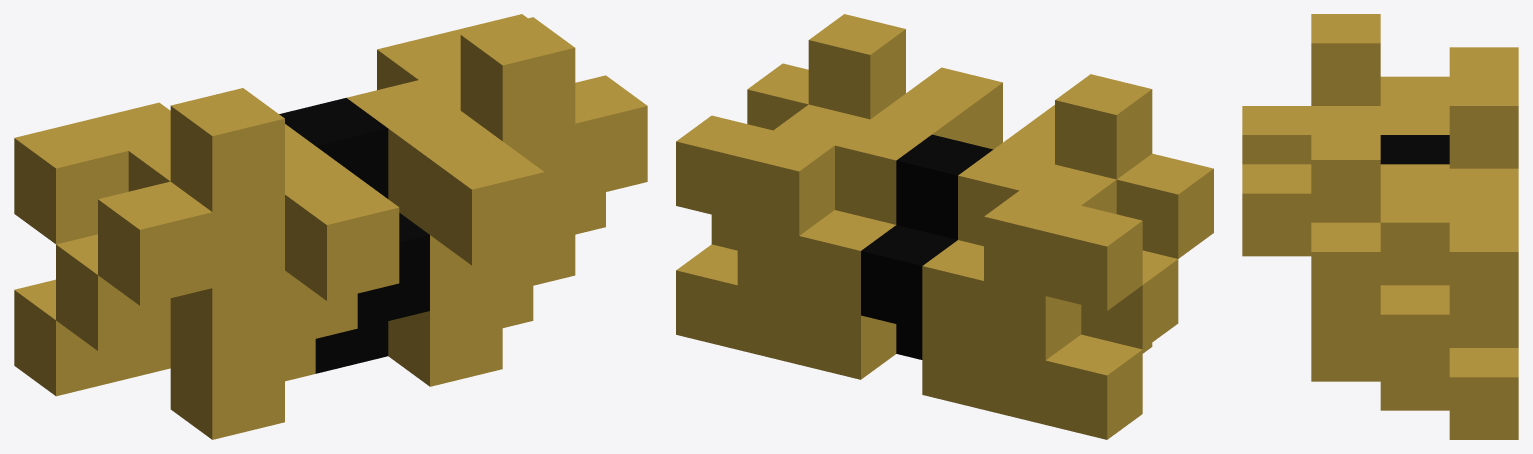
The model's file is heldhay.fbx.
3 views of the same model, side by side, from view 1: azimuth 30°, elevation 25°; view 2: azimuth 150°, elevation 25°; view 3: azimuth 270°, elevation 25° (orthographic). The views are drawn at different scales.
Visible parts, largest first — view 1: hold_hay:Mesh; view 2: hold_hay:Mesh; view 3: hold_hay:Mesh.
Part boxes in pixels (x1=…): hold_hay:Mesh: x1=14, y1=14, x2=647, y2=439; hold_hay:Mesh: x1=676, y1=14, x2=1213, y2=439; hold_hay:Mesh: x1=1242, y1=14, x2=1518, y2=439.
Size of the model in its own units: 0.7 by 0.4 by 0.4.
